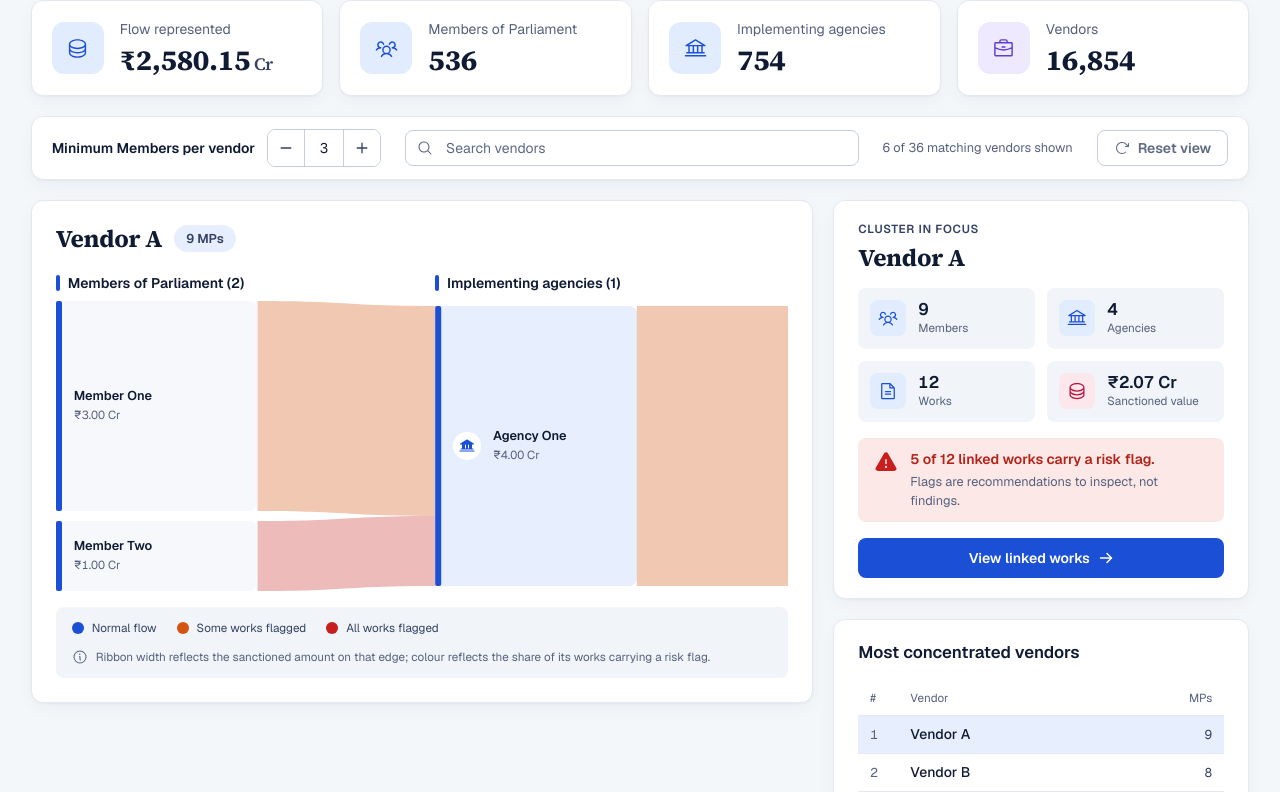
a search narrows the list and the toolbar count says how many it found
Check: the heading "Vendor A" is shown, box [56,225,162,253]
Type "vendor c" into the search field labelled "Search vendors". click: (632, 148)
box: [405,130,858,166]
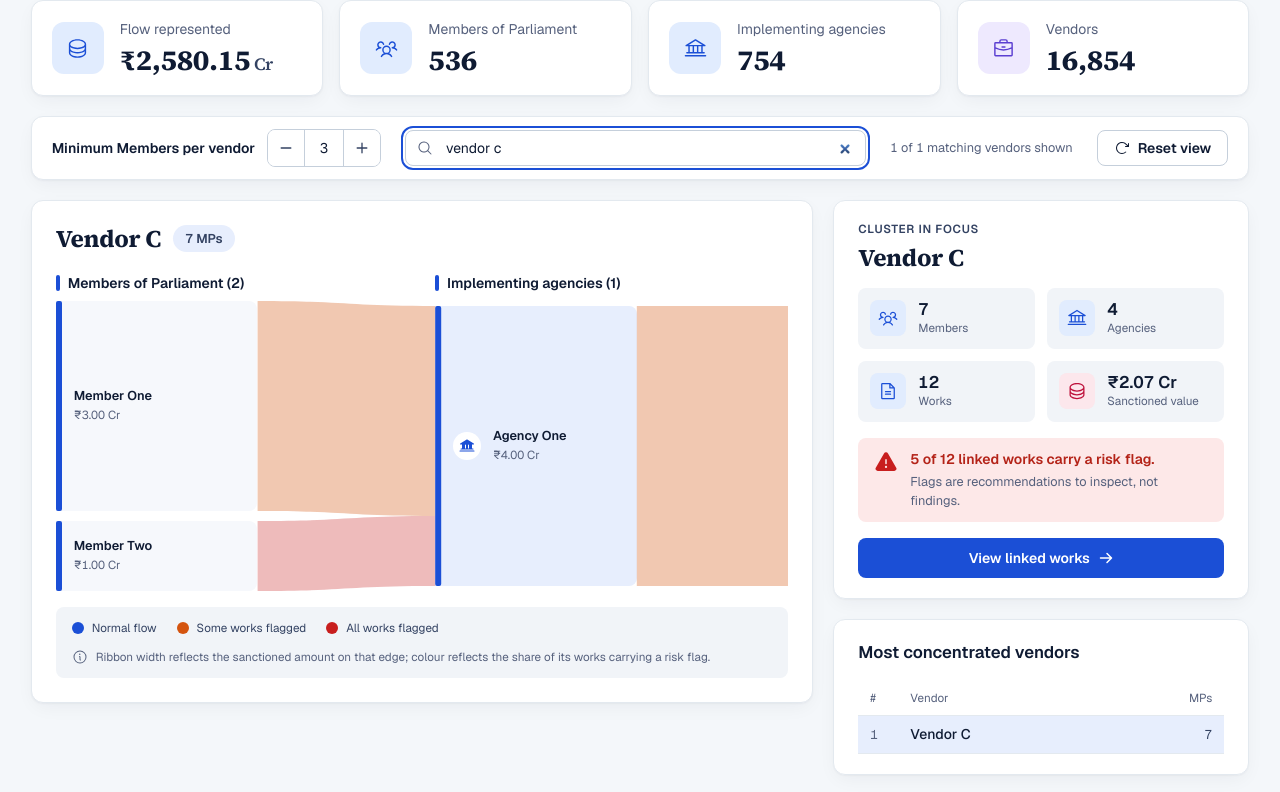
Check: the button "Reset view" is enabled, box [1097,130,1228,166]
